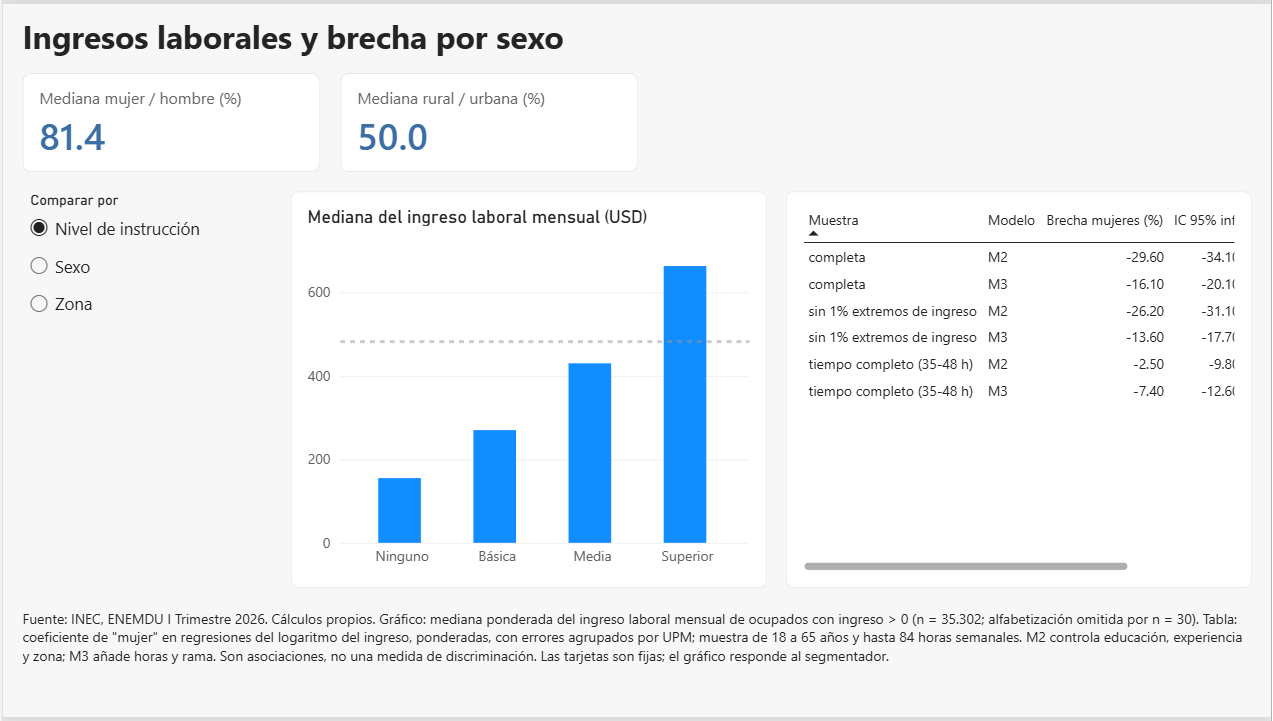

Layout of this report page (visuals, bound fields, positions):
{"tool":"powerbi","page":{"name":"Ingresos y brecha","canvas":[1280,720],"ordinal":1},"visuals":[{"type":"textbox","box":[20,10,1240,50],"z":0},{"type":"cardVisual","fields":{"Data":["ingresos.Razon mujer hombre"]},"box":[20,70,300,100],"z":1},{"type":"cardVisual","fields":{"Data":["ingresos.Razon rural urbana"]},"box":[340,70,300,100],"z":2},{"type":"slicer","fields":{"Values":["ingresos.dimension"]},"box":[20,190,250,150],"z":3},{"type":"clusteredColumnChart","title":"Mediana del ingreso laboral mensual (USD)","fields":{"Category":["ingresos.categoria"],"Y":["ingresos.Mediana ingreso"]},"box":[290,190,480,400],"z":4},{"type":"textbox","box":[20,610,1240,80],"z":5},{"type":"tableEx","fields":{"Values":["brecha_mujer.muestra","brecha_mujer.modelo","brecha_mujer.brecha_pct","brecha_mujer.ic_inf","brecha_mujer.ic_sup","brecha_mujer.n"]},"box":[790,190,470,400],"z":6}]}

Visuals, with their boxes in screenshot pixels (x1, y1, x2, y2), scaled from the page's 1280x720 canvas onto the 1273x721 screenshot:
textbox: pyautogui.locateOnScreen(20, 10, 1253, 60)
cardVisual - ingresos.Razon mujer hombre: pyautogui.locateOnScreen(20, 70, 318, 170)
cardVisual - ingresos.Razon rural urbana: pyautogui.locateOnScreen(338, 70, 636, 170)
slicer - ingresos.dimension: pyautogui.locateOnScreen(20, 190, 269, 340)
"Mediana del ingreso laboral mensual (USD)" clusteredColumnChart: pyautogui.locateOnScreen(288, 190, 766, 591)
textbox: pyautogui.locateOnScreen(20, 611, 1253, 691)
tableEx - brecha_mujer.muestra x brecha_mujer.modelo: pyautogui.locateOnScreen(786, 190, 1253, 591)
